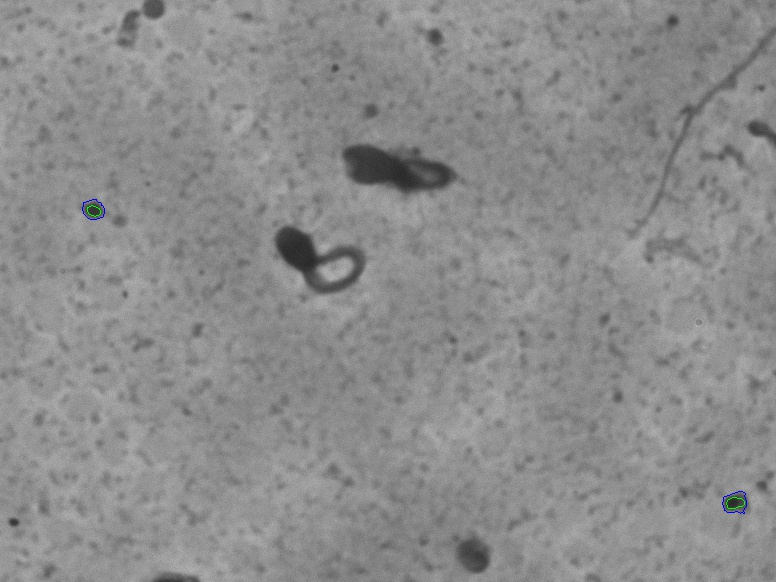Abnormal: (257, 212, 383, 326), (317, 123, 465, 214)
